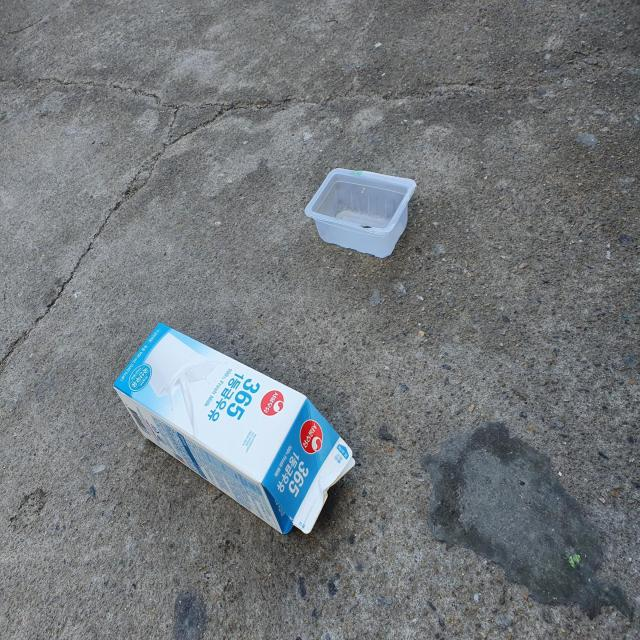paperpack: (114, 323, 355, 535)
plastic: (305, 168, 416, 257)
